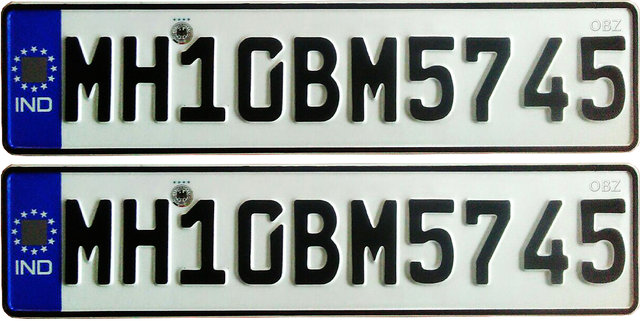number_plate: (1, 2, 637, 153), (2, 167, 637, 318)
